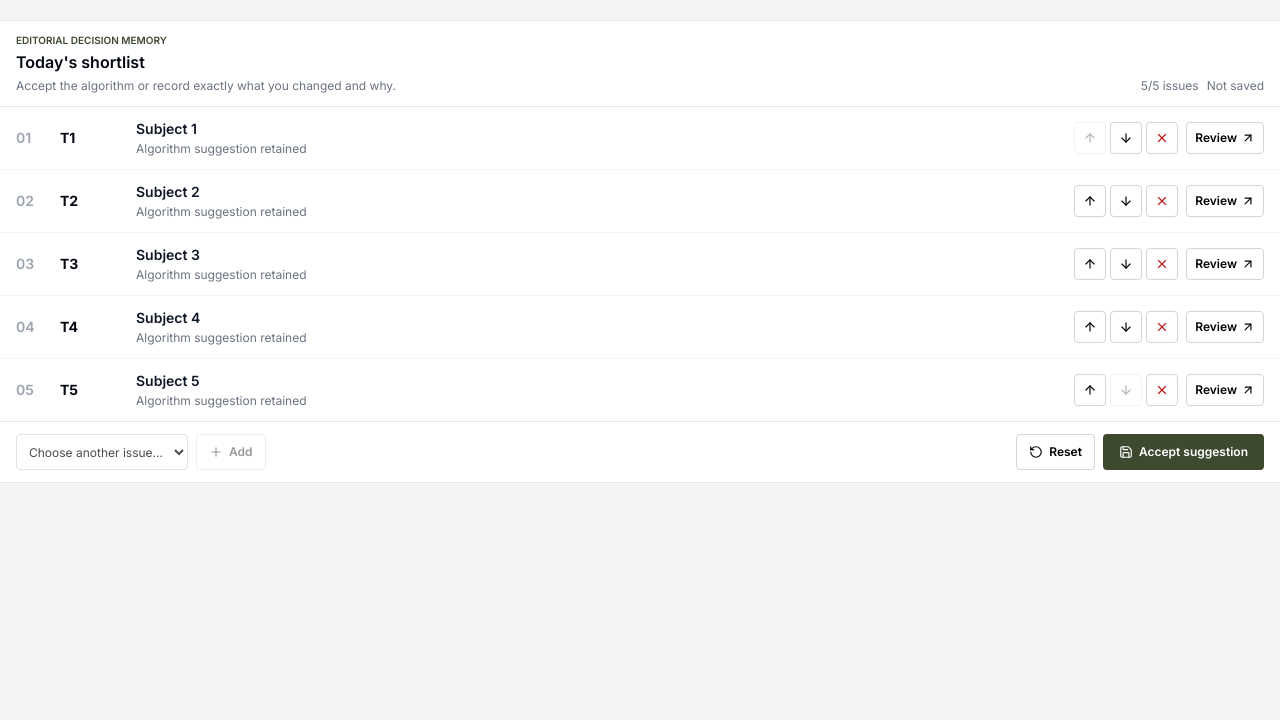
Test: NewsletterEditorialShortlist › recovers from a partial conflict response by fetching the latest state
This screenshot has width=1280, height=720.
Click the button named "Move T1 down": (1126,138) 1110,122 -> 1142,154
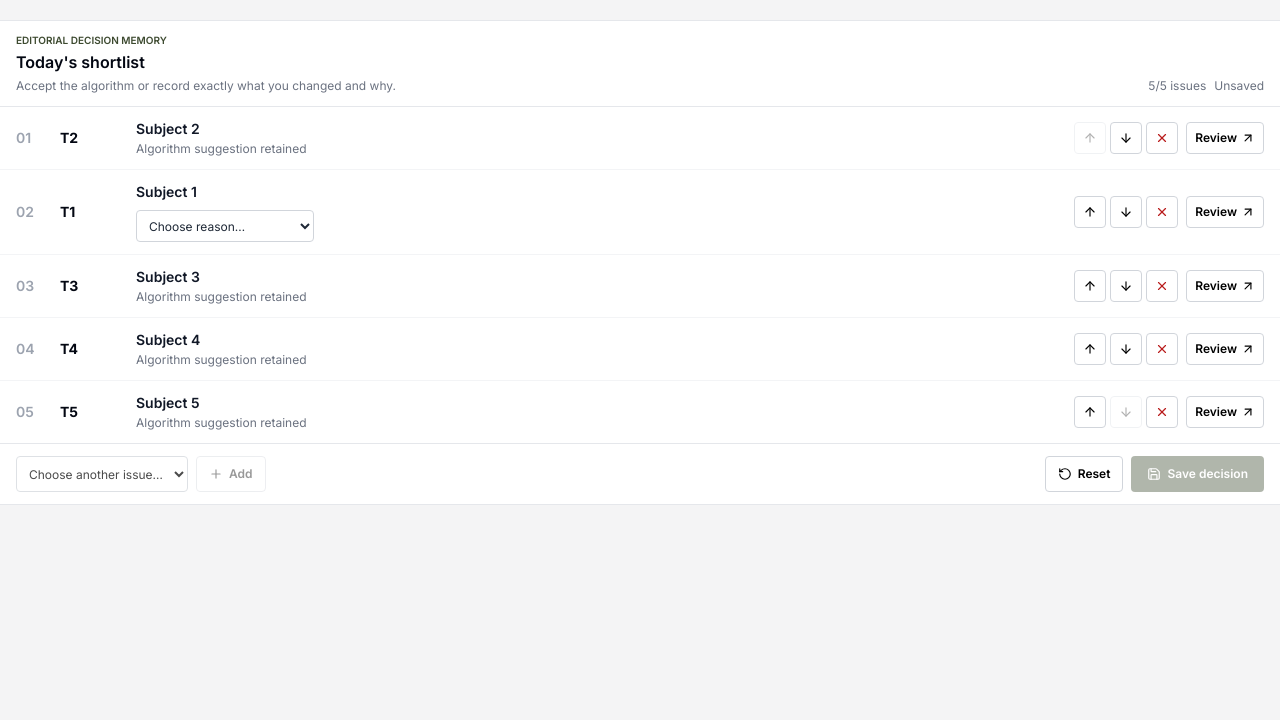
Select "Stronger catalyst" in the dropdown named "Reason for moved T1": (225,226) 136,210 -> 314,242
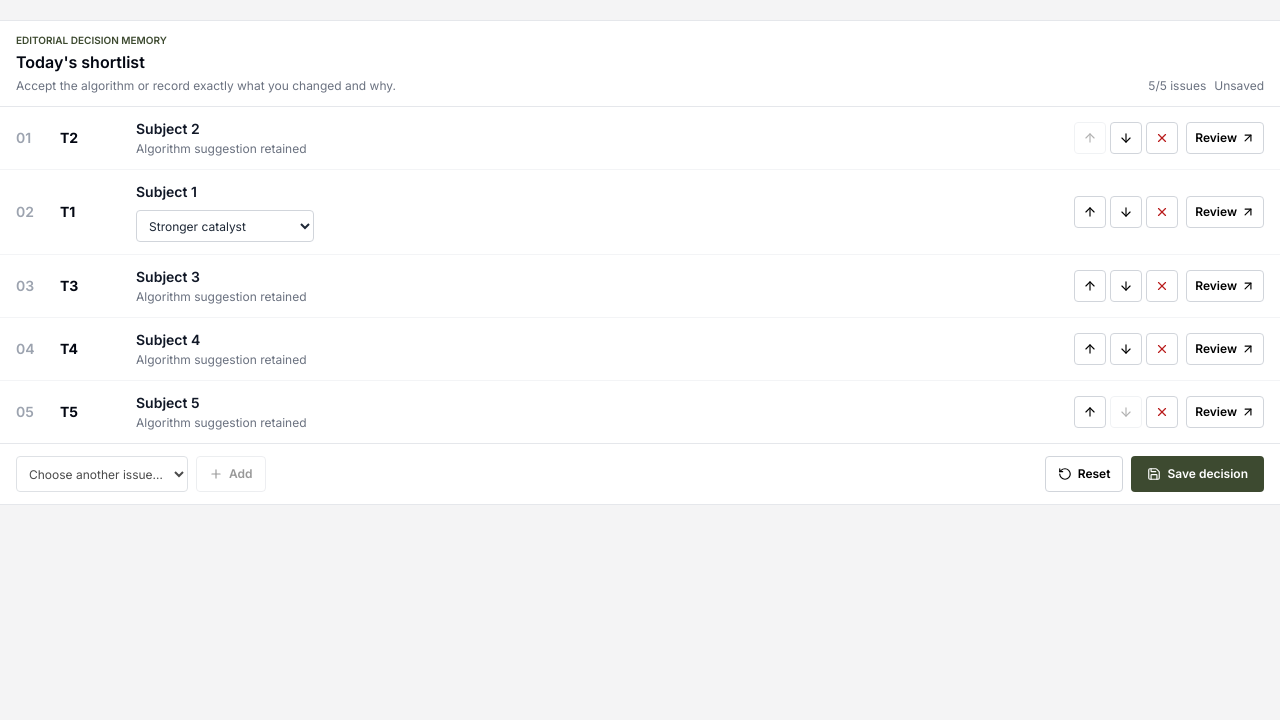
Click the button "Save decision": (1198,474) 1132,456 -> 1264,492
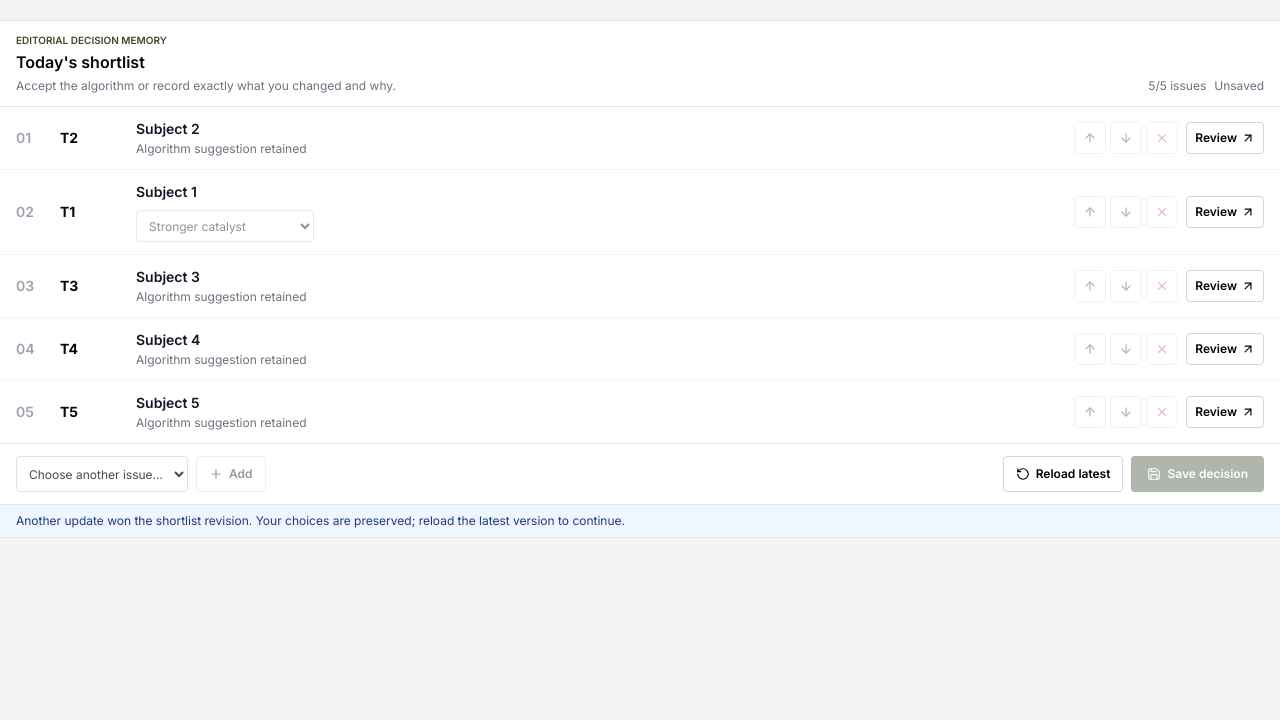
Expected: the text "Another update won the shortlist revision" is shown, 16,513 -> 625,528
Click the button "Reload latest": (1063,474) 1003,456 -> 1123,492
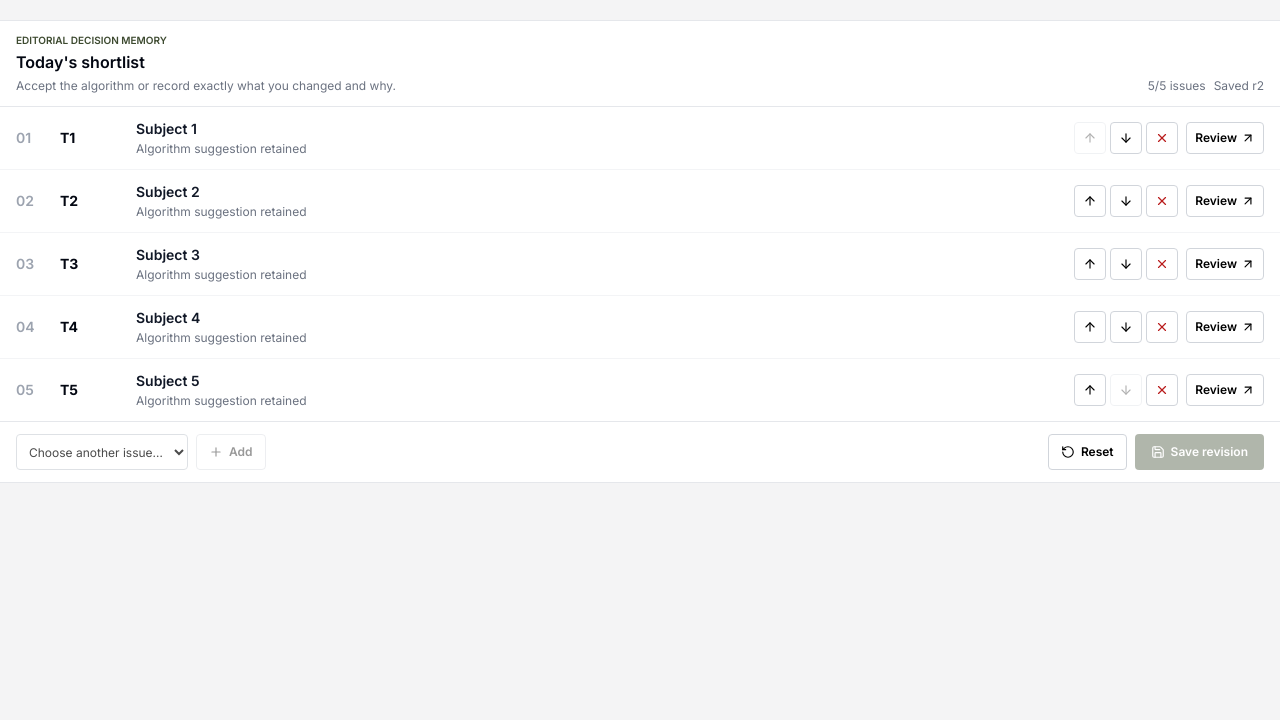
Expected: the text "Saved r2" is shown, 1214,78 -> 1264,94
Expected: the text "Another update won the shortlist revision" is gone
